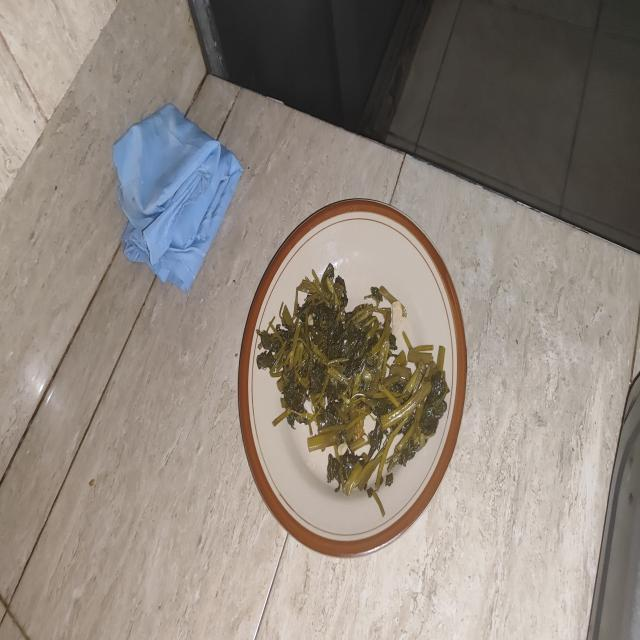tumis_kangkung: (256, 264, 449, 496)
